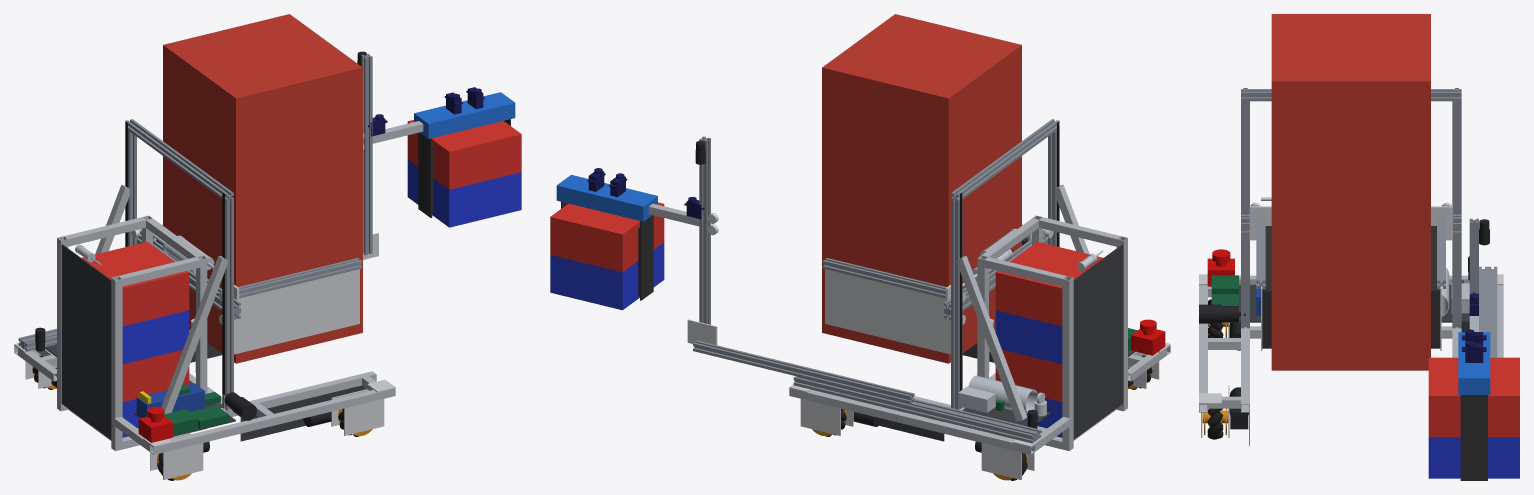
File: TR-A_terjulur.glb
3 views of the same model, side by side, from view 1: azimuth 30°, elevation 25°; view 2: azimuth 150°, elevation 25°; view 3: azimuth 270°, elevation 25° (orthographic). The views are drawn at different scales.
Parts seen in each view (by area): view 1: Earth (peraga)_2, Earth (peraga), pintu_rak_belakang, rahang_kanan, Sky (peraga, di penjepit), Sky (peraga, rak)_3, Sky (peraga, di penjepit)_2, rel_luar_kanan, Sky (peraga, rak)_4, kepala_penjepit_sky, Sky (peraga, rak), penguat_tiang_2 (+26 smaller); view 2: Earth (peraga)_2, Earth (peraga), pintu_rak_belakang, rahang_kiri, Sky (peraga, di penjepit), Sky (peraga, rak)_3, Sky (peraga, di penjepit)_2, rel_sky_t0, rel_luar_kiri, rel_sky_t1, Sky (peraga, rak)_4, kepala_penjepit_sky (+22 smaller); view 3: Earth (peraga)_2, Earth (peraga), Sky (peraga, di penjepit), Sky (peraga, di penjepit)_2, jari_penjepit_sky, tiang_carriage, tiang_carriage_2, kepala_penjepit_sky, rel_sky_t0, busa_rahang_kanan, busa_rahang_kiri, rel_luar_kanan (+17 smaller).
Part boxes in pixels (x1=…): Earth (peraga)_2: x1=163, y1=14, x2=362, y2=230; Earth (peraga): x1=163, y1=178, x2=362, y2=363; pintu_rak_belakang: x1=61, y1=244, x2=111, y2=439; rahang_kanan: x1=234, y1=269, x2=359, y2=354; Sky (peraga, di penjepit): x1=407, y1=120, x2=521, y2=189; Sky (peraga, rak)_3: x1=82, y1=242, x2=189, y2=326; Sky (peraga, di penjepit)_2: x1=407, y1=159, x2=521, y2=227; rel_luar_kanan: x1=149, y1=388, x2=395, y2=454; Sky (peraga, rak)_4: x1=122, y1=310, x2=189, y2=364; kepala_penjepit_sky: x1=414, y1=92, x2=515, y2=138; Sky (peraga, rak): x1=122, y1=349, x2=189, y2=401; penguat_tiang_2: x1=161, y1=255, x2=228, y2=414; Earth (peraga)_2: x1=822, y1=14, x2=1021, y2=230; Earth (peraga): x1=822, y1=178, x2=1021, y2=363; pintu_rak_belakang: x1=1073, y1=244, x2=1123, y2=439; rahang_kiri: x1=825, y1=269, x2=950, y2=354; Sky (peraga, di penjepit): x1=550, y1=202, x2=664, y2=272; Sky (peraga, rak)_3: x1=995, y1=242, x2=1102, y2=326; Sky (peraga, di penjepit)_2: x1=550, y1=242, x2=664, y2=310; rel_sky_t0: x1=793, y1=376, x2=1040, y2=443; rel_luar_kiri: x1=789, y1=388, x2=1035, y2=454; rel_sky_t1: x1=693, y1=340, x2=914, y2=403; Sky (peraga, rak)_4: x1=995, y1=310, x2=1062, y2=364; kepala_penjepit_sky: x1=556, y1=174, x2=657, y2=221; Earth (peraga)_2: x1=1271, y1=14, x2=1430, y2=225; Earth (peraga): x1=1271, y1=226, x2=1430, y2=370; Sky (peraga, di penjepit): x1=1428, y1=357, x2=1519, y2=437; Sky (peraga, di penjepit)_2: x1=1428, y1=437, x2=1519, y2=478; jari_penjepit_sky: x1=1460, y1=395, x2=1487, y2=480; tiang_carriage: x1=1452, y1=101, x2=1461, y2=328; tiang_carriage_2: x1=1241, y1=101, x2=1249, y2=328; kepala_penjepit_sky: x1=1458, y1=332, x2=1490, y2=394; rel_sky_t0: x1=1479, y1=266, x2=1497, y2=357; busa_rahang_kanan: x1=1262, y1=226, x2=1271, y2=348; busa_rahang_kiri: x1=1431, y1=226, x2=1440, y2=348; rel_luar_kanan: x1=1199, y1=285, x2=1207, y2=412.
Bounding box in the file's own units: 1327 × 902 × 704.
